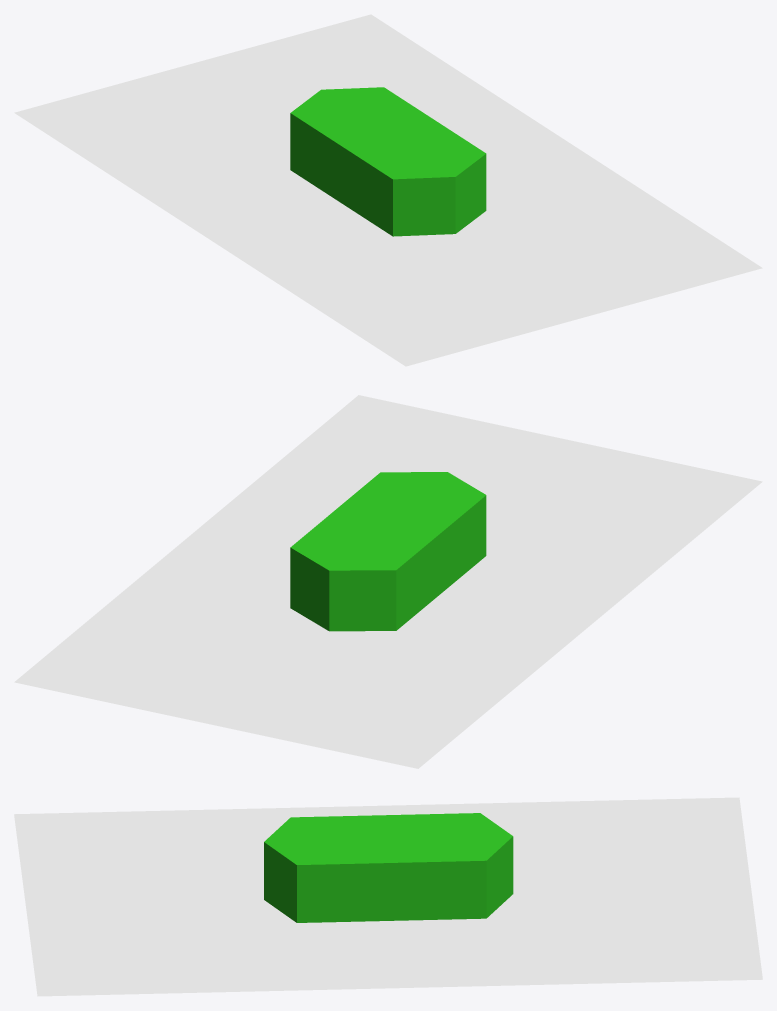
The model's file is NormalContent.fbx.
3 renders of one model, top to bottom at view 1: azimuth 30°, elevation 25°; view 2: azimuth 150°, elevation 25°; view 3: azimuth 270°, elevation 25°, orthographic. The views are drawn at different scales.
Parts seen in each view (by area): view 1: Shadow, Model; view 2: Shadow, Model; view 3: Shadow, Model.
Boxes of the visible parts, x1=… form: Shadow: x1=14, y1=14, x2=762, y2=366; Model: x1=290, y1=87, x2=486, y2=236; Shadow: x1=14, y1=395, x2=762, y2=768; Model: x1=290, y1=472, x2=486, y2=631; Shadow: x1=14, y1=797, x2=762, y2=996; Model: x1=264, y1=813, x2=513, y2=922.
Bounding box in the file's own units: 2.22 × 0.308 × 3.53.
